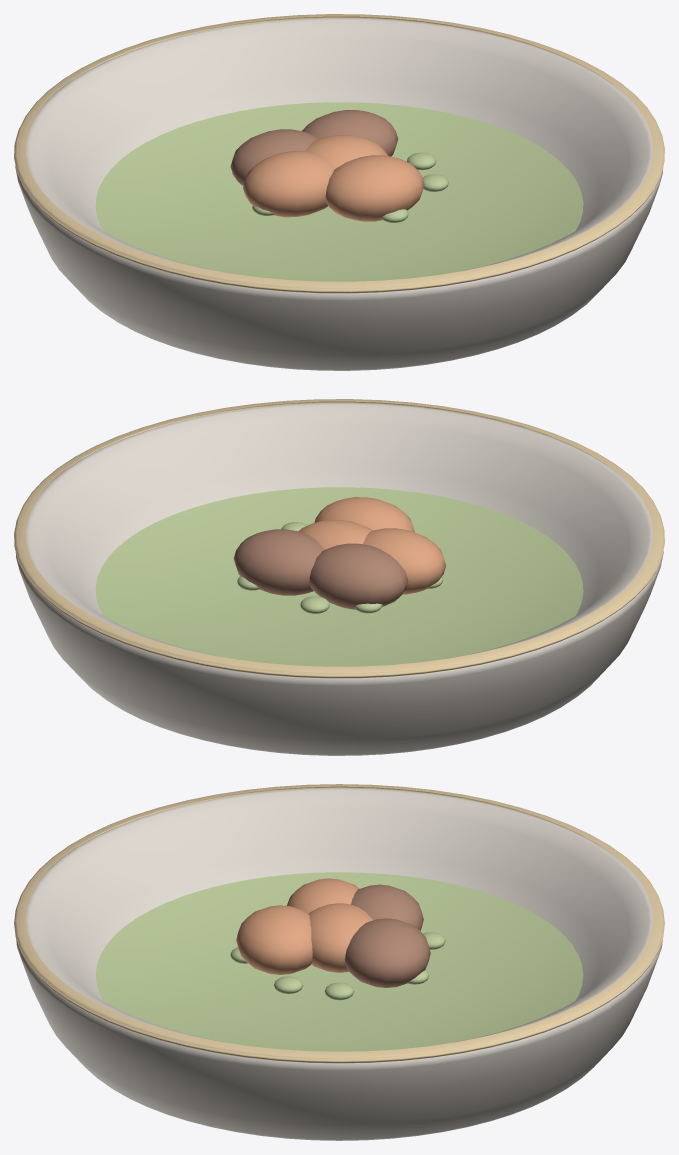
The model's file is spiced-mutton-table.glb.
3 views of the same model, one above another, from view 1: azimuth 30°, elevation 25°; view 2: azimuth 150°, elevation 25°; view 3: azimuth 270°, elevation 25° (orthographic).
Visible parts, largest first — view 1: Hand-thrown shallow bowl, Sauce and food bed, Fine bowl rim, Spiced mutton medallion.002, Spiced mutton medallion.004, Spiced mutton medallion.003, Spiced mutton medallion.001, Spiced mutton medallion; view 2: Hand-thrown shallow bowl, Sauce and food bed, Fine bowl rim, Spiced mutton medallion.001, Spiced mutton medallion.003, Spiced mutton medallion.004, Spiced mutton medallion.002, Spiced mutton medallion; view 3: Hand-thrown shallow bowl, Sauce and food bed, Fine bowl rim, Spiced mutton medallion.003, Spiced mutton medallion.002, Spiced mutton medallion, Spiced mutton medallion.001, Spiced mutton medallion.004.
Part boxes in pixels (<box>): Hand-thrown shallow bowl: <box>15,18,663,370</box>; Sauce and food bed: <box>95,102,583,281</box>; Fine bowl rim: <box>14,14,664,293</box>; Spiced mutton medallion.002: <box>325,155,424,221</box>; Spiced mutton medallion.004: <box>243,151,334,217</box>; Spiced mutton medallion.003: <box>302,110,398,156</box>; Spiced mutton medallion.001: <box>230,129,318,186</box>; Spiced mutton medallion: <box>305,134,387,168</box>; Hand-thrown shallow bowl: <box>15,403,663,755</box>; Sauce and food bed: <box>95,487,583,666</box>; Fine bowl rim: <box>14,399,664,678</box>; Spiced mutton medallion.001: <box>309,543,408,609</box>; Spiced mutton medallion.003: <box>233,529,324,595</box>; Spiced mutton medallion.004: <box>363,528,446,594</box>; Spiced mutton medallion.002: <box>314,497,414,532</box>; Spiced mutton medallion: <box>298,519,372,549</box>; Hand-thrown shallow bowl: <box>16,788,662,1140</box>; Sauce and food bed: <box>95,872,583,1051</box>; Fine bowl rim: <box>14,784,664,1063</box>; Spiced mutton medallion.003: <box>344,918,430,987</box>; Spiced mutton medallion.002: <box>236,905,312,974</box>; Spiced mutton medallion: <box>308,903,373,972</box>; Spiced mutton medallion.001: <box>351,884,423,930</box>; Spiced mutton medallion.004: <box>287,878,359,913</box>.
Bounding box in the file's own units: 1.1 × 0.25 × 1.1.
